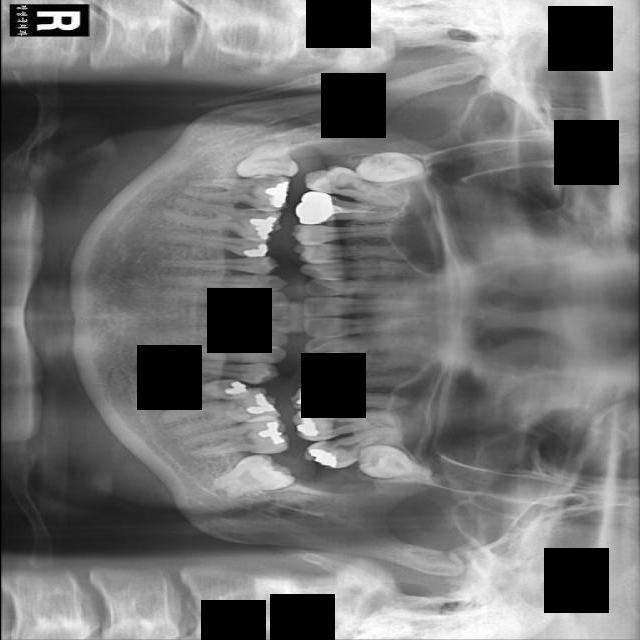3M ESPE Implant: (354, 150, 425, 184)
52: (221, 381, 281, 433), (300, 431, 361, 481), (232, 198, 287, 250), (238, 410, 292, 461), (245, 172, 292, 214), (290, 406, 340, 443), (293, 190, 330, 226), (291, 240, 343, 265), (205, 378, 251, 402), (289, 386, 334, 409), (290, 222, 331, 247), (229, 235, 269, 259), (255, 208, 264, 213)
73: (324, 195, 401, 221), (37, 594, 47, 599)
BioHorizons Implant: (300, 419, 405, 478)
BioLife Implant: (357, 444, 430, 481)
Biomet 3i Implant: (203, 446, 296, 505)
Blue Sky Bio Implant: (181, 415, 289, 458)
Caries: (301, 159, 416, 213)
Implant: (180, 169, 292, 212)
Keystone Dental Implant: (233, 139, 299, 181)
